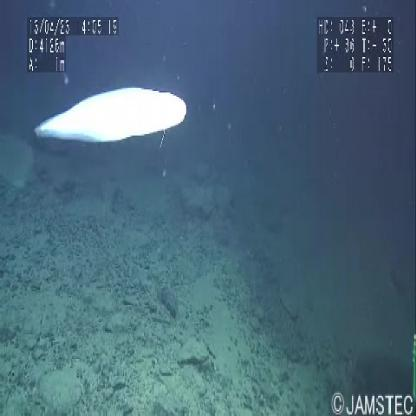Bio: (29, 79, 190, 151)
